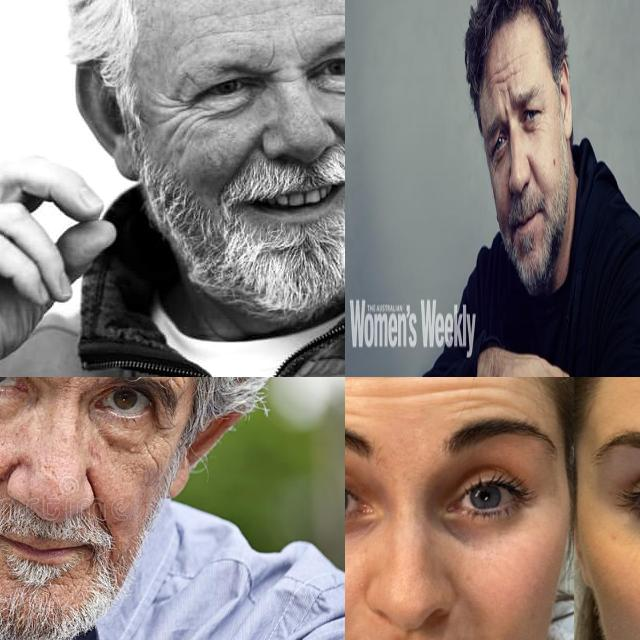chin: (54, 567, 78, 595)
crows_feet: (165, 97, 203, 135), (152, 416, 174, 442), (489, 155, 497, 179)
forehead: (446, 377, 522, 419), (365, 377, 433, 408), (488, 52, 523, 85), (198, 22, 244, 40), (247, 0, 292, 18), (315, 7, 345, 25), (345, 392, 358, 425)
frown_line: (290, 33, 306, 63), (264, 42, 280, 64), (505, 84, 513, 107)
gummy_smile: (230, 128, 258, 174), (86, 478, 108, 528), (329, 119, 345, 153), (527, 154, 537, 185)
masseter: (142, 445, 162, 473)
